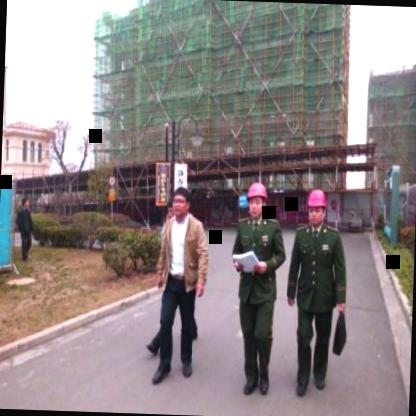helmet: (245, 181, 271, 220), (306, 188, 328, 228)
